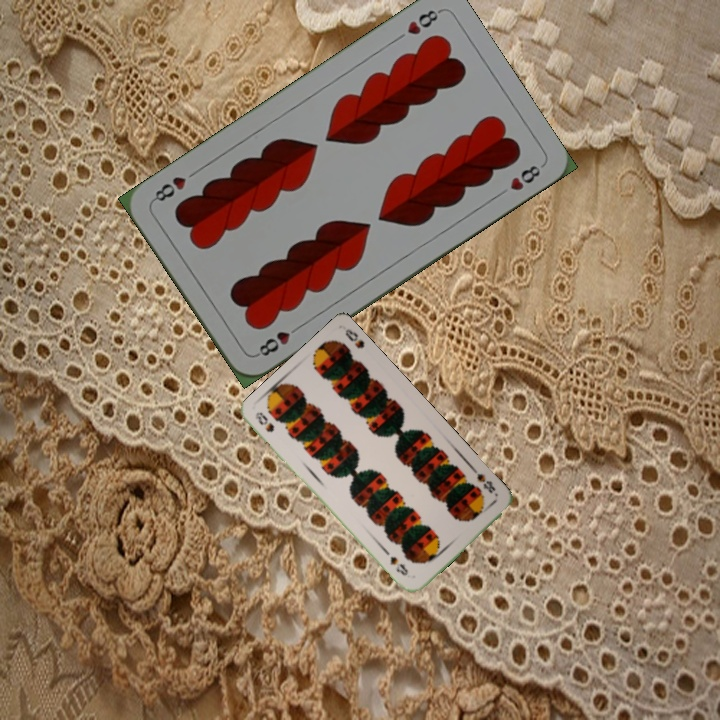H8: (391, 5, 443, 44), (252, 321, 304, 359)
S8: (469, 465, 498, 496), (251, 408, 277, 435)
